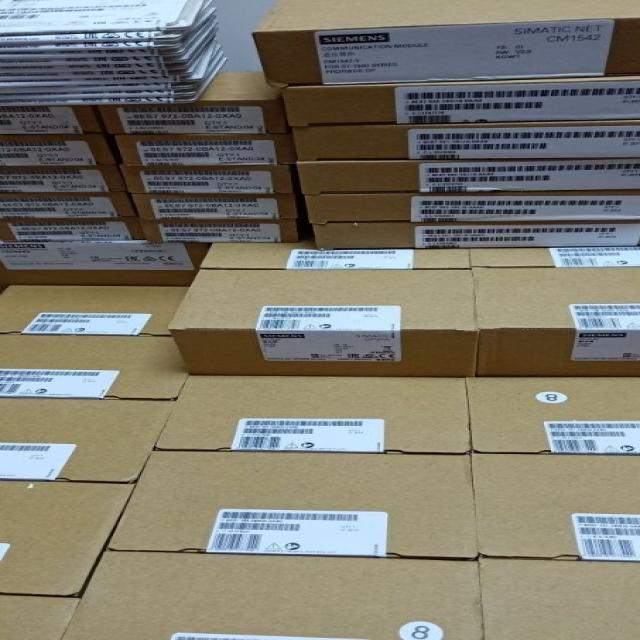box: (105, 449, 478, 557), (61, 551, 482, 640), (167, 267, 480, 377), (249, 0, 640, 87), (147, 375, 472, 454), (281, 72, 640, 127), (473, 265, 640, 378), (470, 453, 640, 563), (0, 481, 131, 598), (292, 119, 640, 161), (0, 399, 175, 481), (465, 376, 640, 455), (478, 557, 640, 640), (297, 157, 640, 195), (0, 331, 185, 401), (99, 71, 291, 134), (304, 189, 640, 225), (312, 219, 640, 251), (0, 285, 192, 333), (0, 241, 209, 285), (196, 242, 470, 270), (116, 129, 297, 165), (119, 165, 292, 193), (130, 193, 297, 219), (0, 133, 117, 167), (0, 593, 82, 640), (140, 219, 298, 243), (0, 217, 146, 242), (0, 193, 136, 219), (0, 166, 127, 193), (470, 246, 640, 266), (0, 105, 103, 135)
